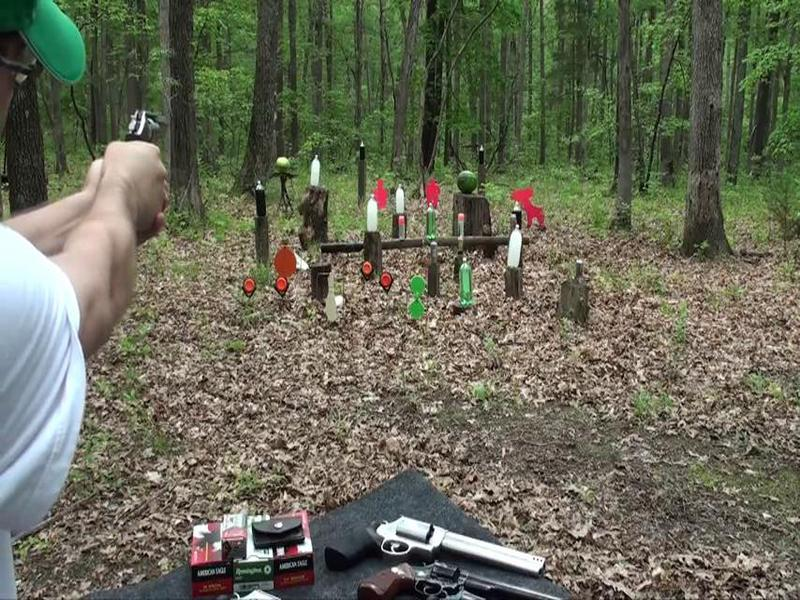Revolver: (120, 98, 180, 175)
